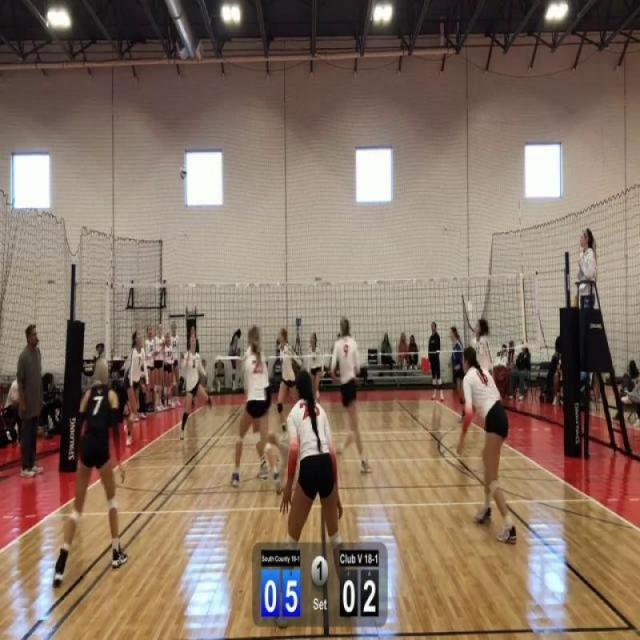volleyball: (178, 164, 188, 181)
